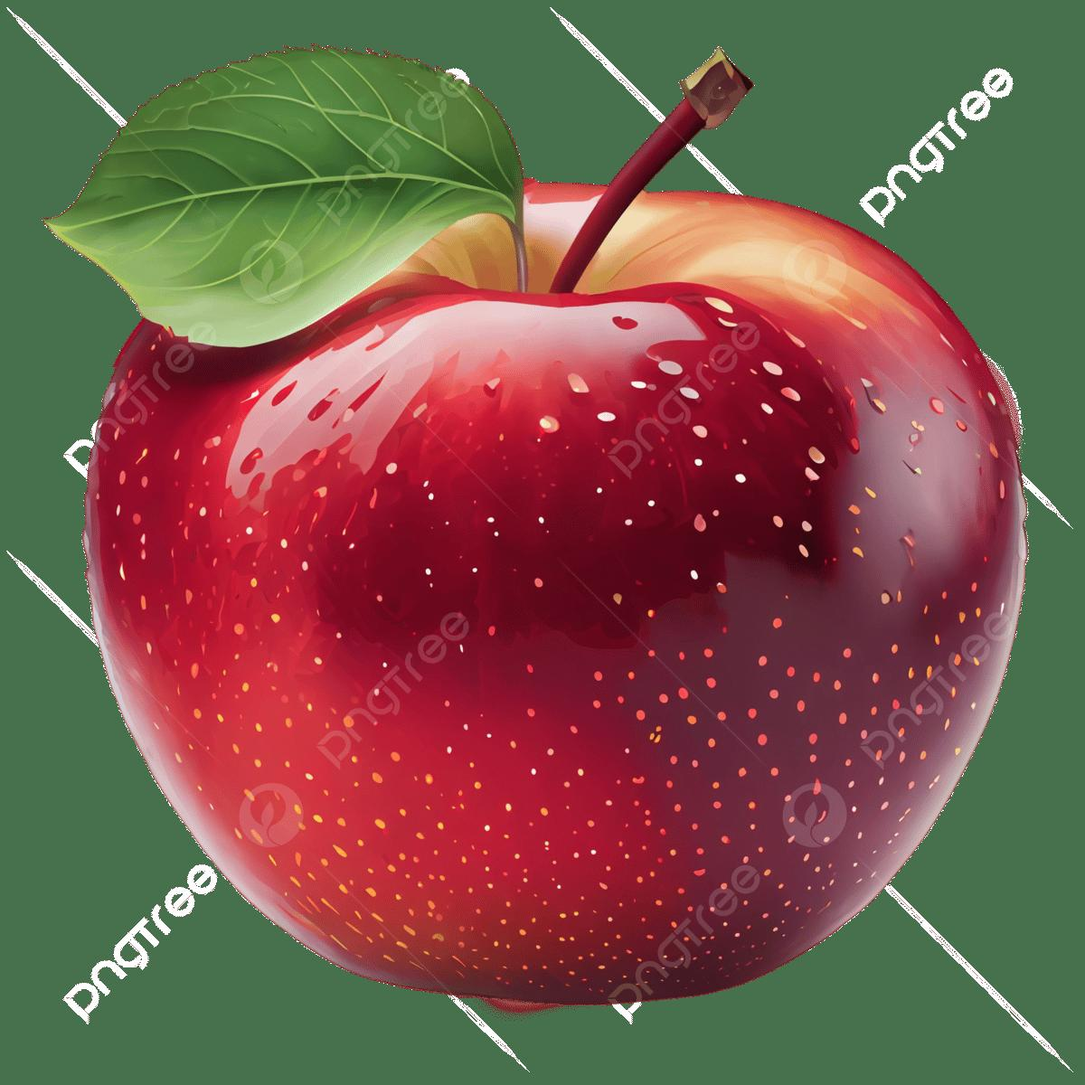apples: (29, 43, 1036, 1004)
